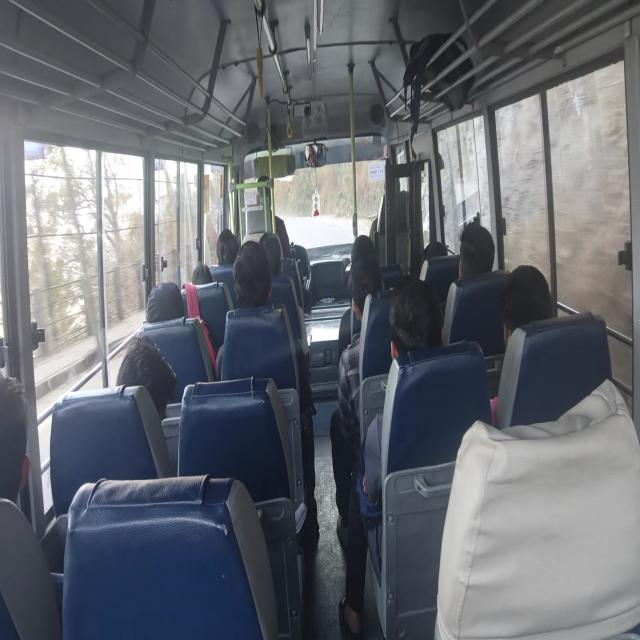person: (0, 365, 79, 535), (502, 252, 583, 368), (100, 338, 165, 407), (458, 216, 506, 292), (348, 260, 397, 322), (399, 284, 445, 350), (232, 243, 272, 305), (146, 276, 180, 341), (213, 226, 252, 271), (424, 236, 460, 273), (344, 240, 384, 270), (257, 224, 279, 269), (185, 268, 215, 289)
